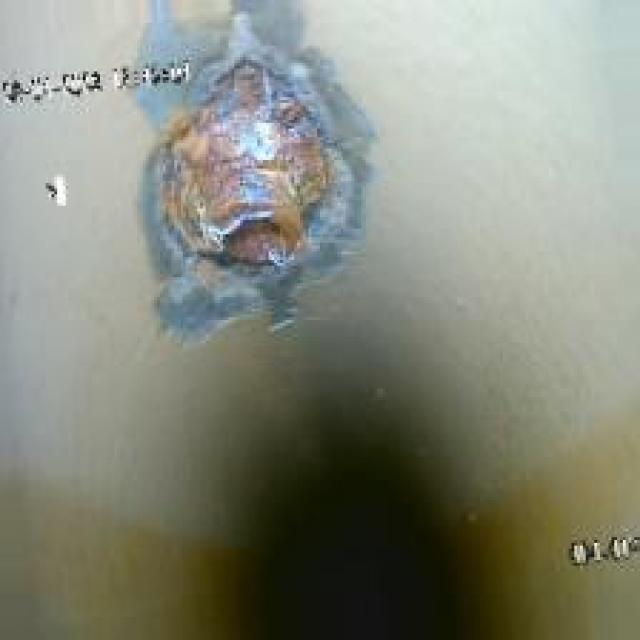ferrule: (163, 88, 337, 283)
